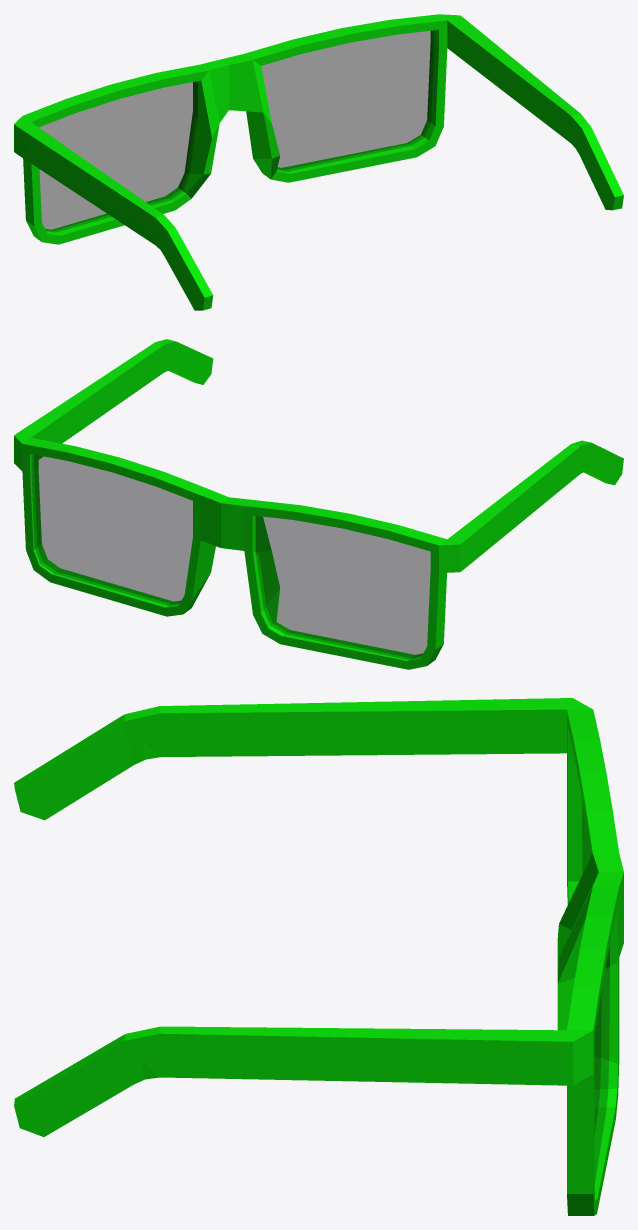
Rendered from gafasverdes.fbx.
The picture shows the model from 3 angles, top to bottom: view 1: azimuth 30°, elevation 25°; view 2: azimuth 150°, elevation 25°; view 3: azimuth 270°, elevation 25°; orthographic projection. The views are drawn at different scales.
Parts seen in each view (by area): view 1: Sunglasses_Cube.001; view 2: Sunglasses_Cube.001; view 3: Sunglasses_Cube.001.
Part boxes in pixels (x1,y1,x2,y2): Sunglasses_Cube.001: [14, 14, 623, 310]; Sunglasses_Cube.001: [14, 339, 623, 669]; Sunglasses_Cube.001: [14, 698, 623, 1215].
Bounding box in the file's own units: 80.79 × 23.61 × 60.61.
